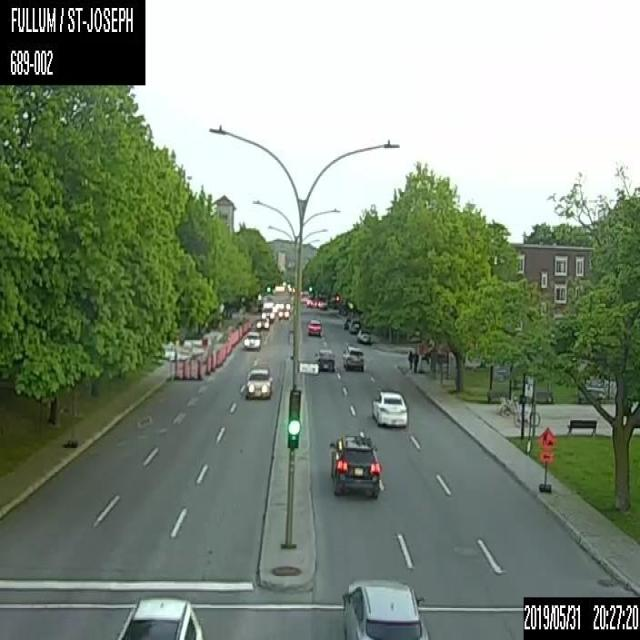construction: (536, 424, 554, 492), (180, 358, 188, 380), (173, 356, 180, 381), (188, 358, 196, 378), (195, 360, 203, 379), (203, 356, 210, 373), (209, 352, 215, 370), (215, 350, 219, 366)
pedestrian: (412, 349, 418, 374), (407, 349, 412, 370)
vehicle: (340, 576, 428, 639), (115, 594, 203, 638), (327, 433, 380, 498), (368, 389, 408, 428), (245, 364, 272, 400), (312, 346, 334, 374), (342, 344, 364, 371), (243, 330, 261, 350), (306, 316, 321, 337), (356, 328, 371, 344), (261, 301, 273, 321), (347, 316, 361, 332), (318, 295, 328, 309), (277, 308, 289, 319), (256, 317, 268, 328), (342, 316, 349, 330), (305, 298, 313, 307)
